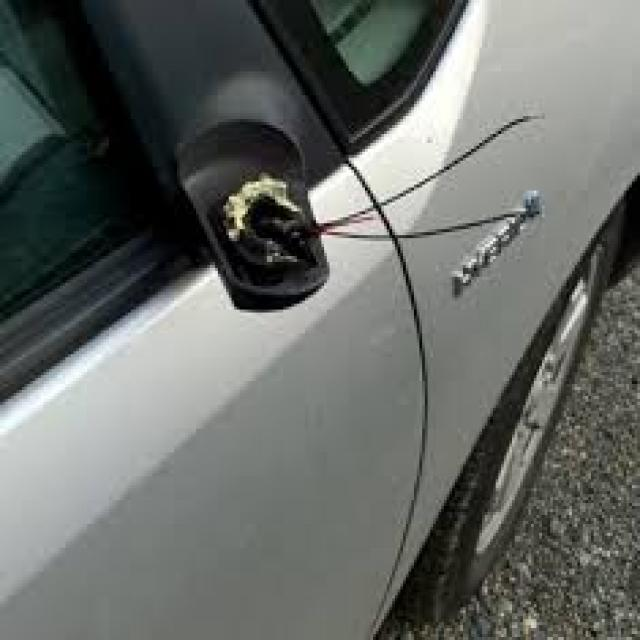minor: (124, 81, 600, 315)
